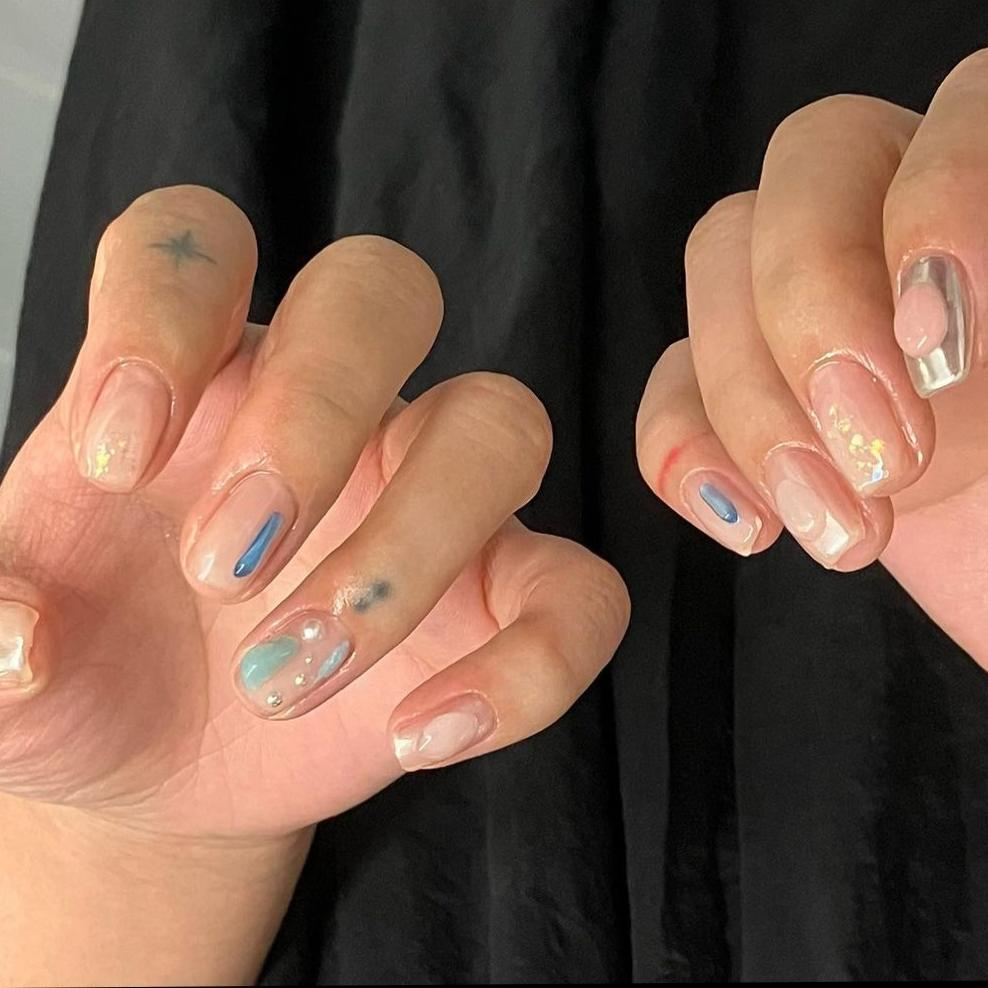nail: (803, 352, 925, 500), (184, 469, 299, 603), (232, 607, 354, 720), (760, 441, 866, 571), (78, 358, 173, 495), (891, 251, 972, 400), (390, 690, 497, 773), (679, 467, 763, 558), (0, 596, 40, 692)
